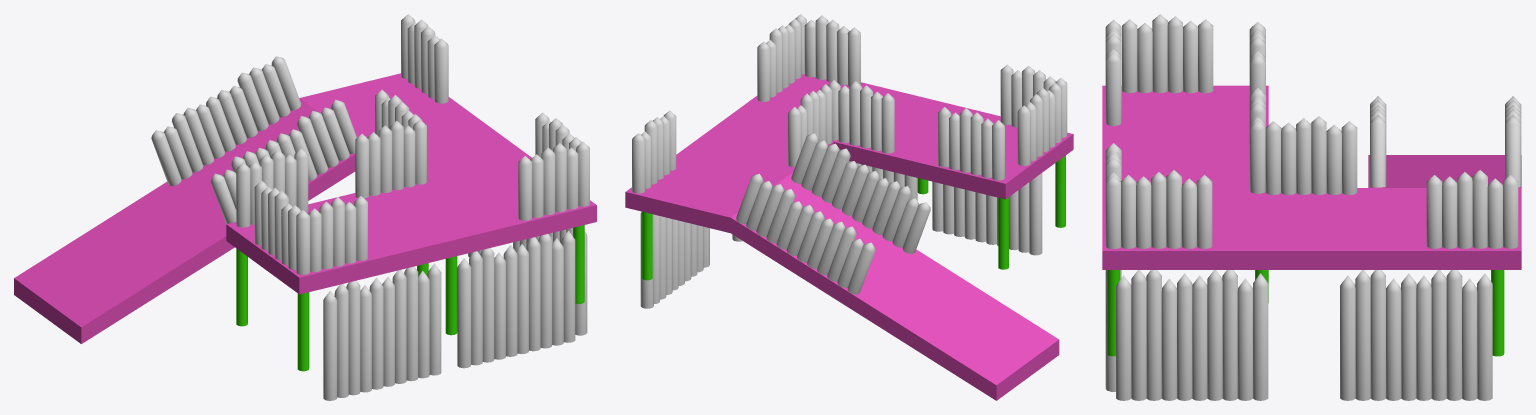
File: Plataforma 1.fbx
3 renders of one model, left to right at view 1: azimuth 30°, elevation 25°; view 2: azimuth 150°, elevation 25°; view 3: azimuth 270°, elevation 25°, orthographic. The views are drawn at different scales.
Visible parts, largest first — view 1: Plane.001; view 2: Plane.001; view 3: Plane.001.
Part boxes in pixels (<box>): Plane.001: <box>14,14,596,400</box>; Plane.001: <box>625,14,1073,400</box>; Plane.001: <box>1102,14,1521,400</box>.
Size of the model in its own units: 739 by 353 by 591.
